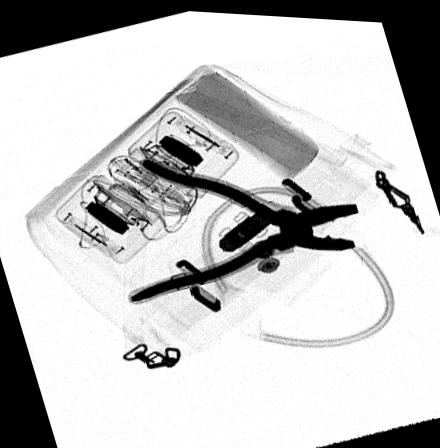Pliers: (128, 156, 359, 301)
